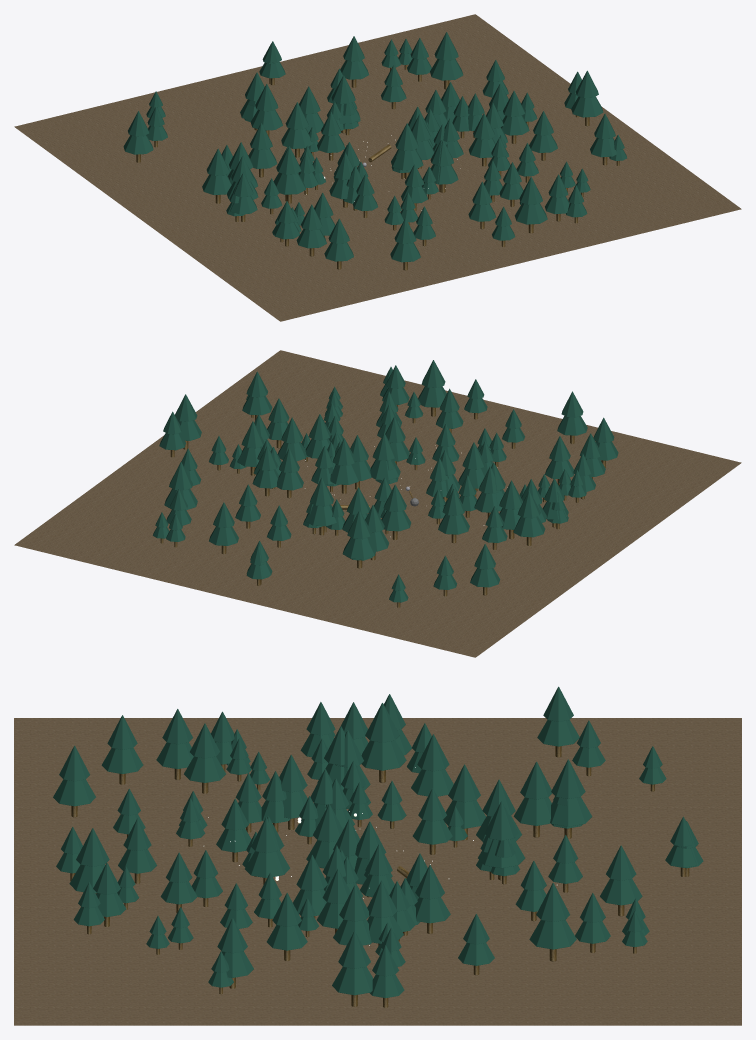
File: adi-09-hidimba.glb
The picture shows the model from 3 angles, top to bottom: view 1: azimuth 30°, elevation 25°; view 2: azimuth 150°, elevation 25°; view 3: azimuth 270°, elevation 25°; orthographic projection. The views are drawn at different scales.
Parts seen in each view (by area): view 1: GEO-ground, GEO-tree-canopy.124, GEO-tree-canopy.002, GEO-tree-canopy.032, GEO-tree-canopy.058, GEO-tree-canopy.096, GEO-tree-canopy.122; view 2: GEO-ground, GEO-tree-canopy.024, GEO-tree-canopy.072, GEO-tree-canopy.126, GEO-tree-canopy.082, GEO-tree-canopy.096; view 3: GEO-ground, GEO-tree-canopy.164, GEO-tree-canopy.124, GEO-tree-canopy.058, GEO-tree-canopy.024, GEO-tree-canopy.004, GEO-tree-canopy.126, GEO-tree-canopy.142, GEO-tree-canopy.100, GEO-tree-canopy.132, GEO-tree-canopy.102, GEO-tree-canopy.184 (+49 smaller).
Boxes of the visible parts, x1,y1,x2,y2 form: GEO-ground: [14, 14, 741, 321]; GEO-tree-canopy.124: [430, 59, 463, 80]; GEO-tree-canopy.002: [514, 203, 547, 224]; GEO-tree-canopy.032: [274, 173, 305, 194]; GEO-tree-canopy.058: [571, 96, 603, 117]; GEO-tree-canopy.096: [281, 128, 313, 148]; GEO-tree-canopy.122: [391, 149, 423, 170]; GEO-ground: [14, 350, 741, 657]; GEO-tree-canopy.024: [342, 537, 376, 559]; GEO-tree-canopy.072: [513, 516, 545, 537]; GEO-tree-canopy.126: [438, 514, 469, 534]; GEO-tree-canopy.082: [305, 504, 336, 526]; GEO-tree-canopy.096: [381, 510, 411, 531]; GEO-ground: [14, 718, 741, 1025]; GEO-tree-canopy.164: [361, 740, 406, 770]; GEO-tree-canopy.124: [529, 920, 576, 949]; GEO-tree-canopy.058: [332, 967, 373, 995]; GEO-tree-canopy.024: [550, 797, 592, 826]; GEO-tree-canopy.004: [513, 797, 551, 825]; GEO-tree-canopy.126: [411, 769, 453, 796]; GEO-tree-canopy.142: [53, 779, 95, 806]; GEO-tree-canopy.100: [537, 720, 579, 746]; GEO-tree-canopy.132: [600, 879, 642, 905]; GEO-tree-canopy.102: [184, 756, 225, 782]; GEO-tree-canopy.184: [101, 748, 143, 773].
Size of the model in its own units: 130 by 15.96 by 130.
Materials: 7 (2 with a texture image).
